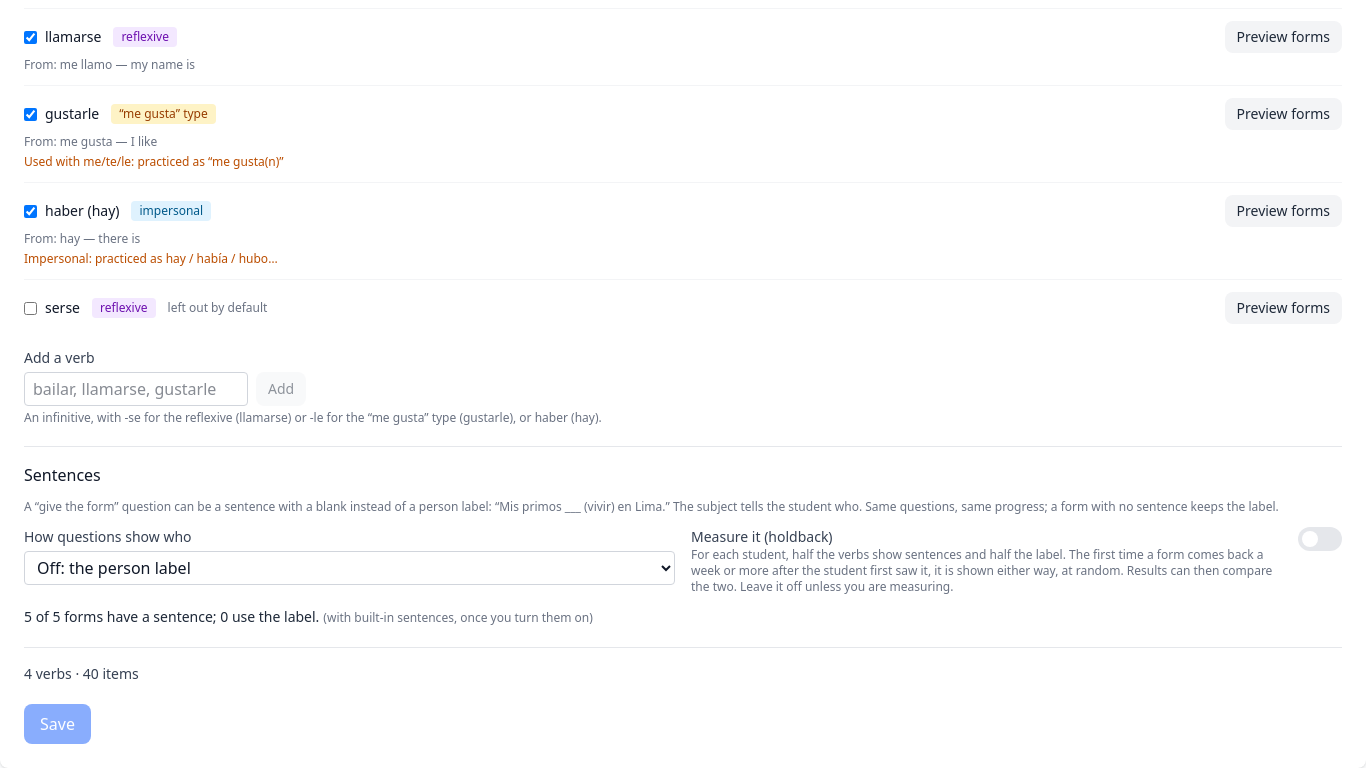
Test case: ConjugationSettings › refuses a verb it cannot read, and one already listed
(page scrolled)
Type "perro" into the field labelled "Add a verb" at (136, 389), box [24,372,248,406]
Then press Enter
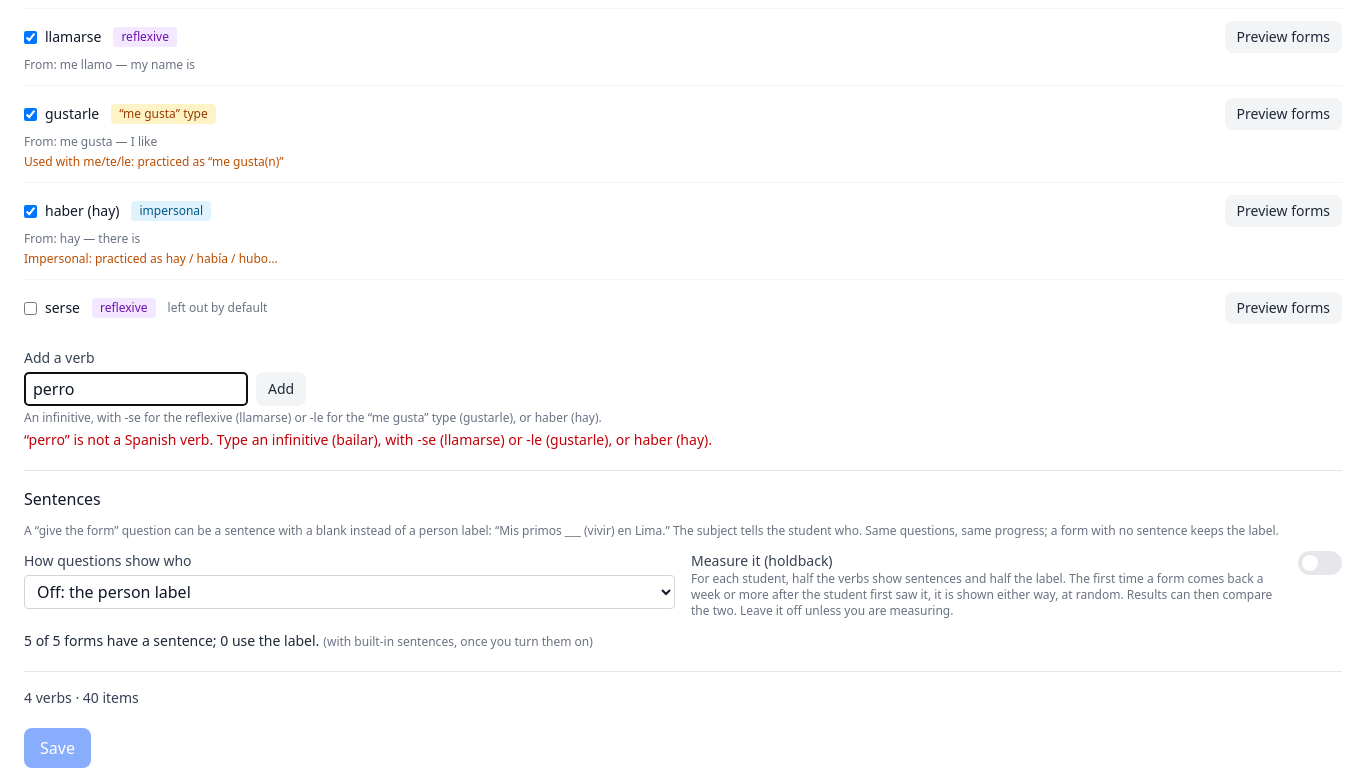
expect the message shows "“perro” is not a Spanish verb.": met, box [24,430,712,449]
Replace the text in the field labelled "Add a verb" with "Tener" at (136, 389), box [24,372,248,406]
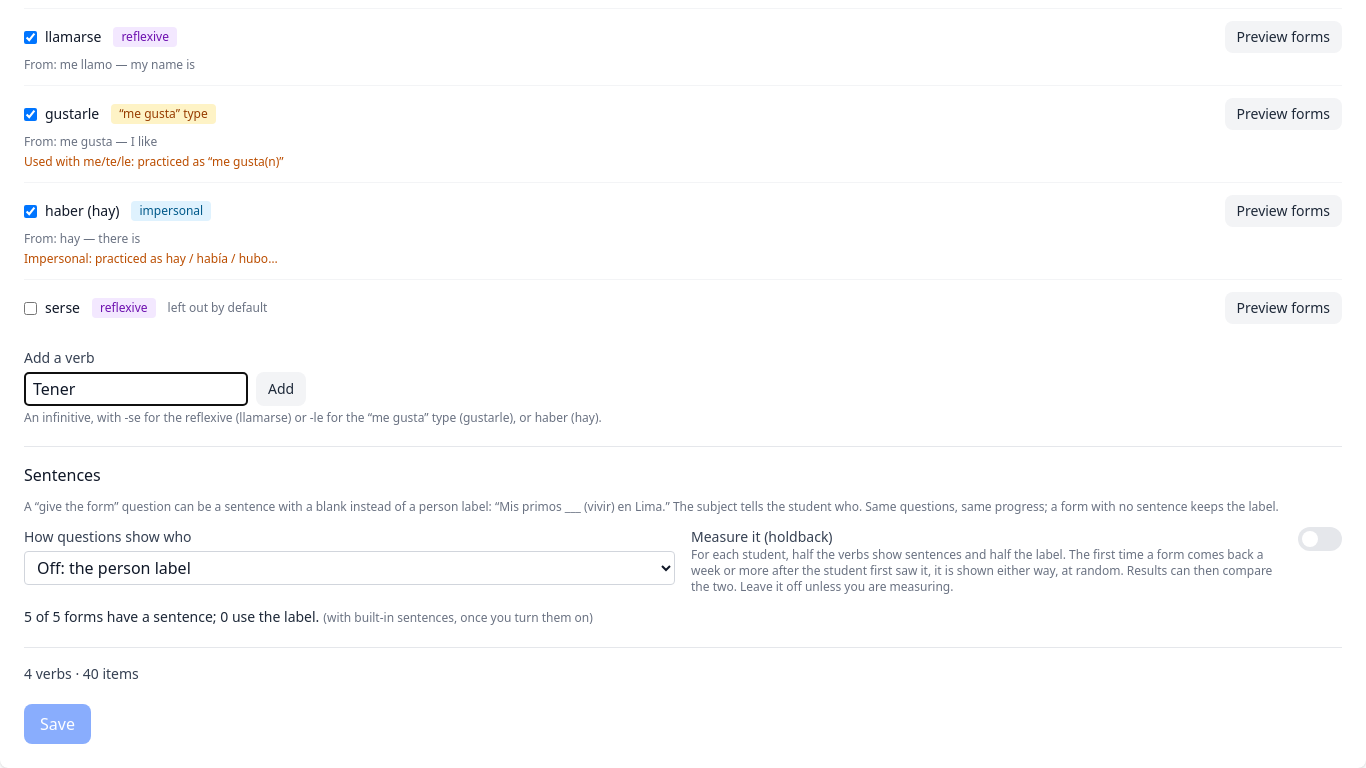
Click the button "Add" at (281, 389), box [256,372,306,406]
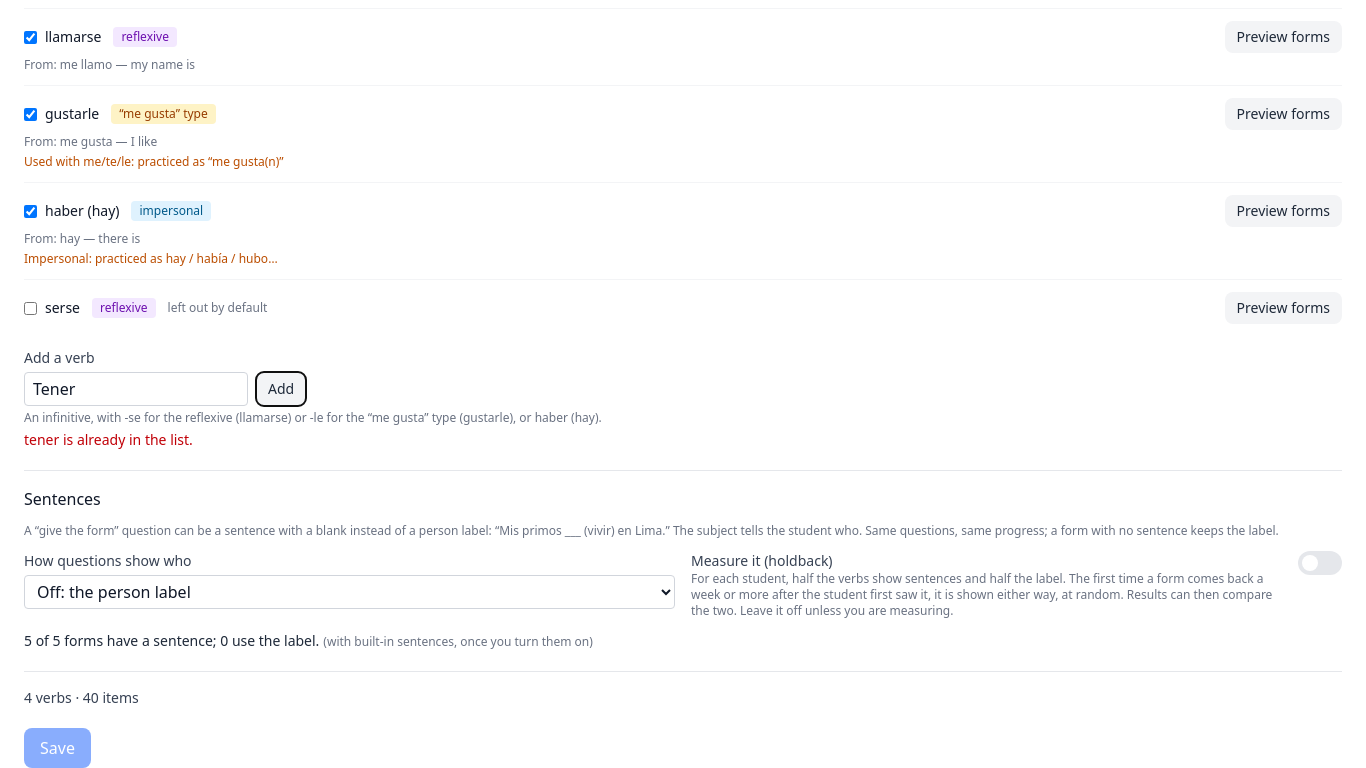
expect the button "Save" is disabled: met, box [24,728,91,767]
expect the message reads "tener is already in the list.": met, box [24,430,193,449]
